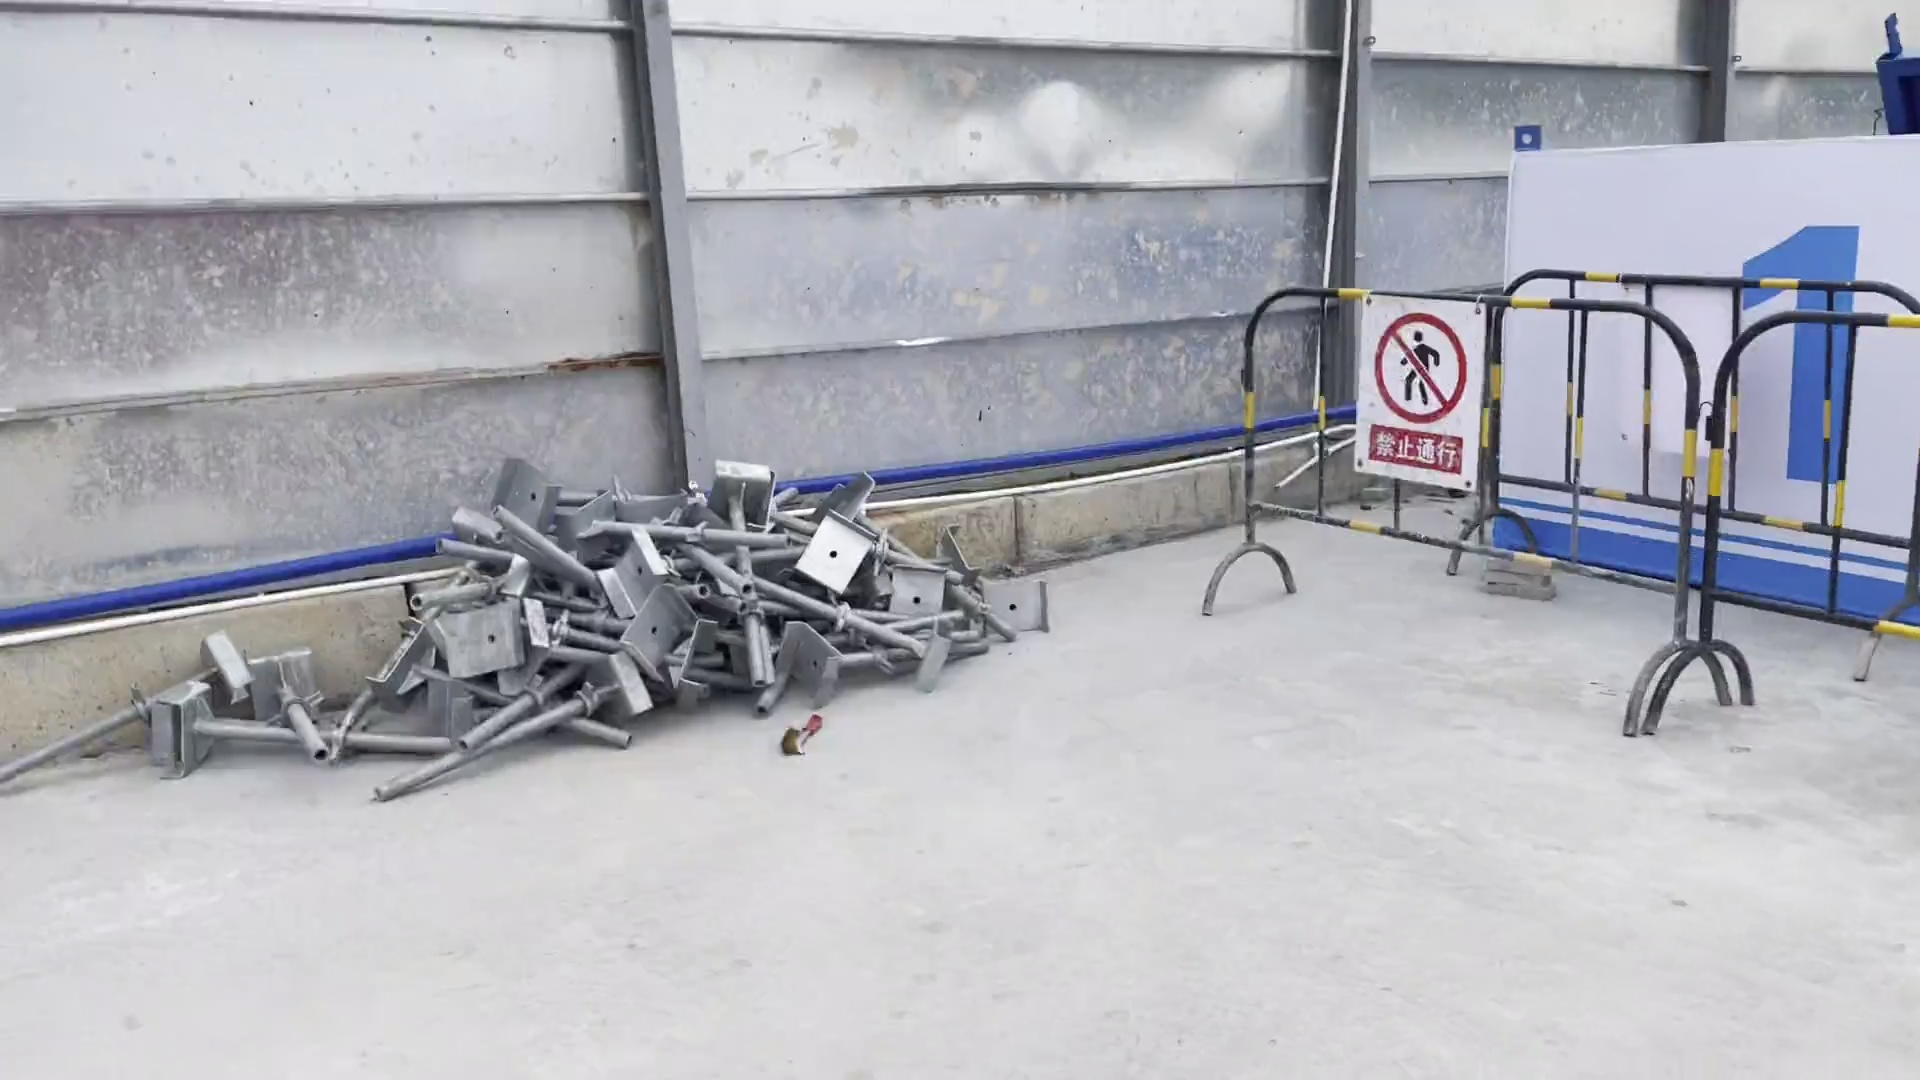fence: (1213, 264, 1920, 703)
slogan: (1331, 285, 1507, 512)
